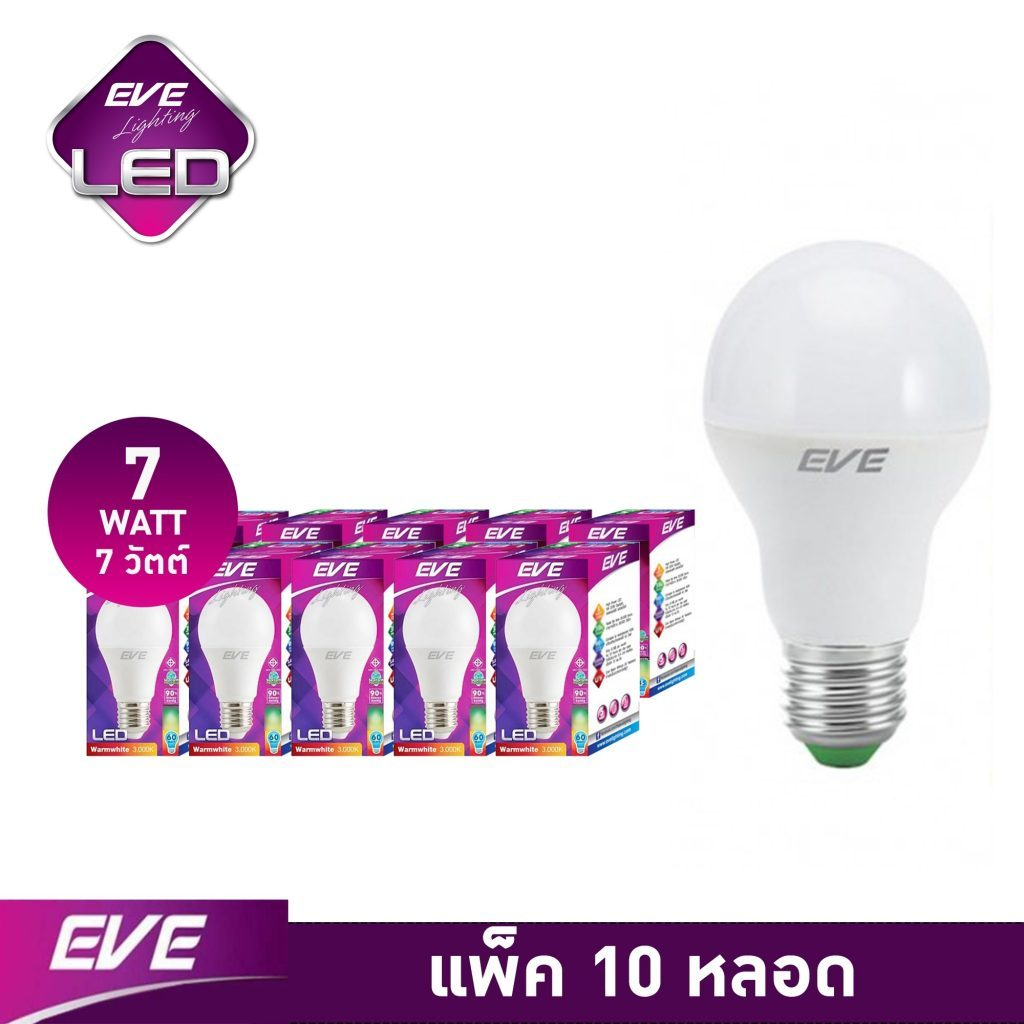Light_bulb: (692, 229, 1007, 789)
